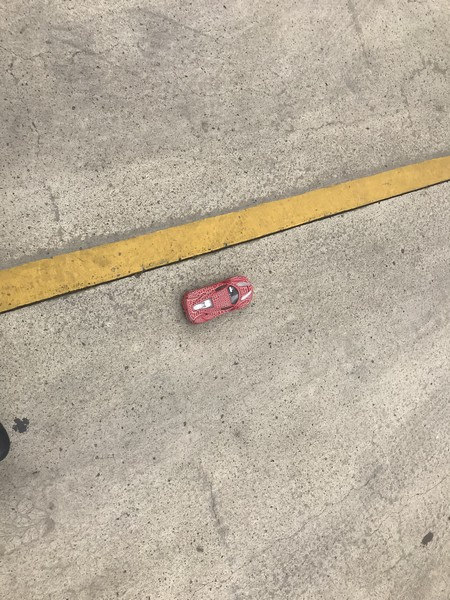RC: (181, 272, 254, 324)
